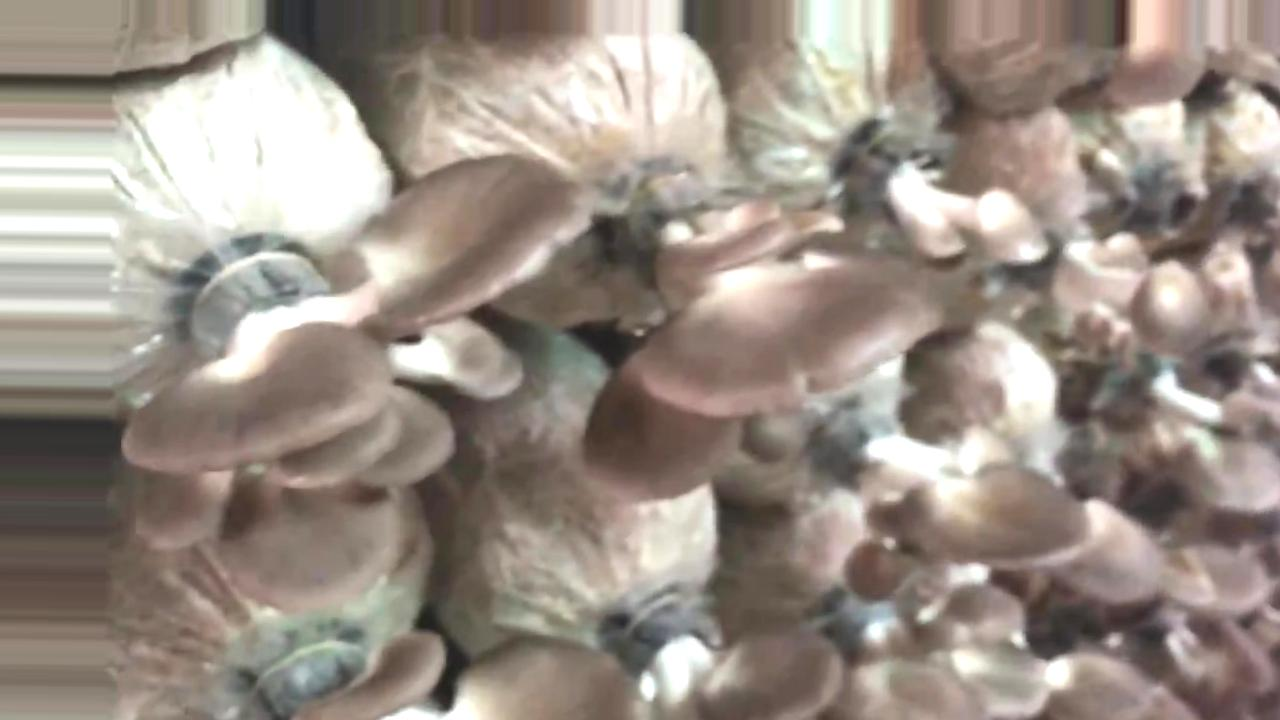nam: (127, 145, 602, 495), (578, 160, 949, 500), (793, 388, 1096, 567)
